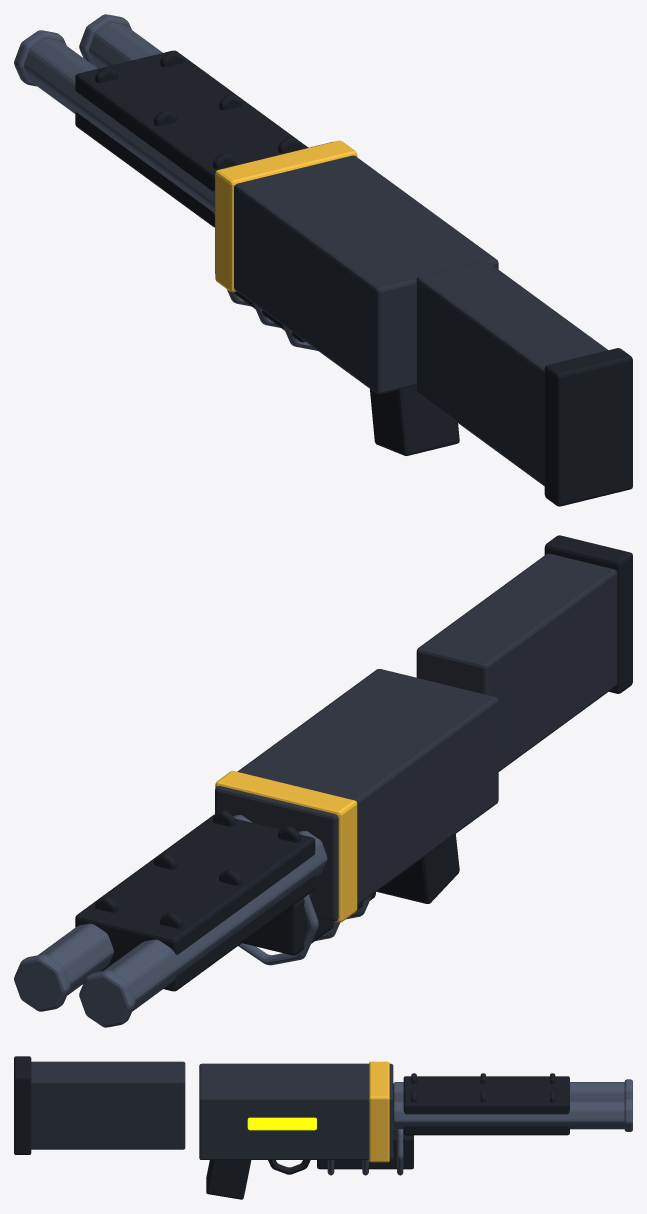
File: wpn_2_scattergun.glb
3 views of the same model, one above another, from view 1: azimuth 30°, elevation 25°; view 2: azimuth 150°, elevation 25°; view 3: azimuth 270°, elevation 25° (orthographic). The views are drawn at different scales.
Visible parts, largest first — view 1: wpn_2_scattergun; view 2: wpn_2_scattergun; view 3: wpn_2_scattergun.
Part boxes in pixels (x1=…): wpn_2_scattergun: x1=14, y1=14, x2=632, y2=506; wpn_2_scattergun: x1=14, y1=535, x2=632, y2=1027; wpn_2_scattergun: x1=14, y1=1056, x2=632, y2=1199.
Bounding box in the file's own units: 0.1275 × 0.2007 × 0.8935.
